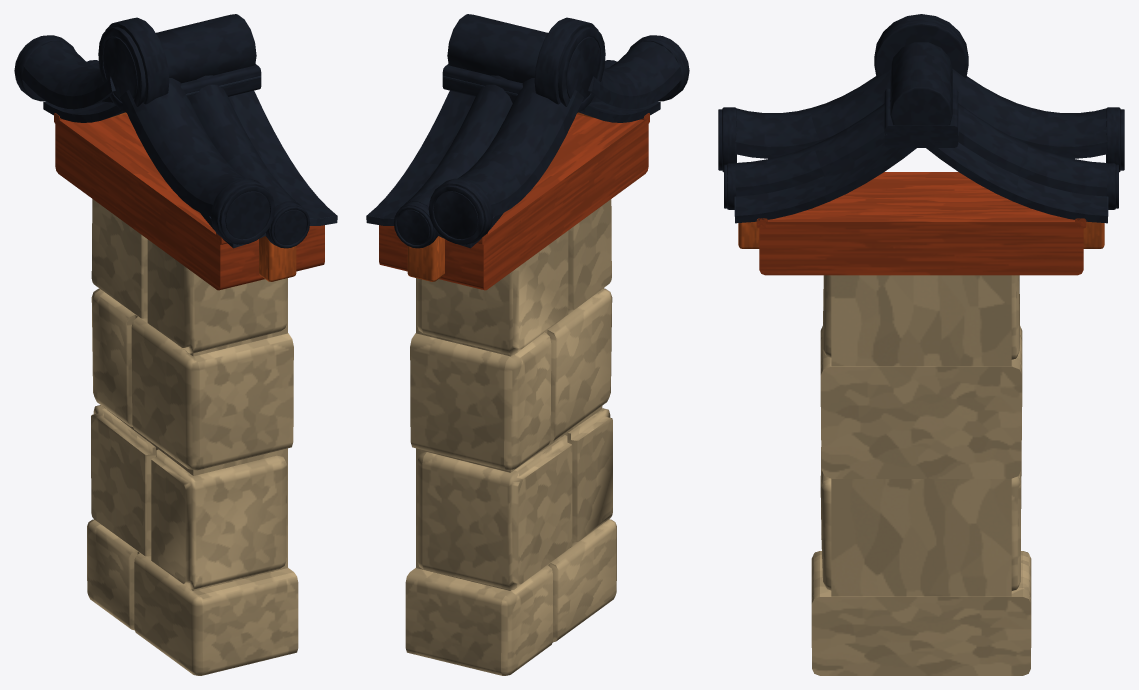
The model's file is Wall_End.fbx.
3 views of the same model, side by side, from view 1: azimuth 30°, elevation 25°; view 2: azimuth 150°, elevation 25°; view 3: azimuth 270°, elevation 25° (orthographic).
Parts seen in each view (by area): view 1: Wall_End_Geometry; view 2: Wall_End_Geometry; view 3: Wall_End_Geometry.
Boxes of the visible parts, x1,y1,x2,y2 form: Wall_End_Geometry: [14, 14, 337, 675]; Wall_End_Geometry: [366, 14, 689, 675]; Wall_End_Geometry: [718, 14, 1124, 675].
Bounding box in the file's own units: 0.487 × 2.27 × 1.38.
